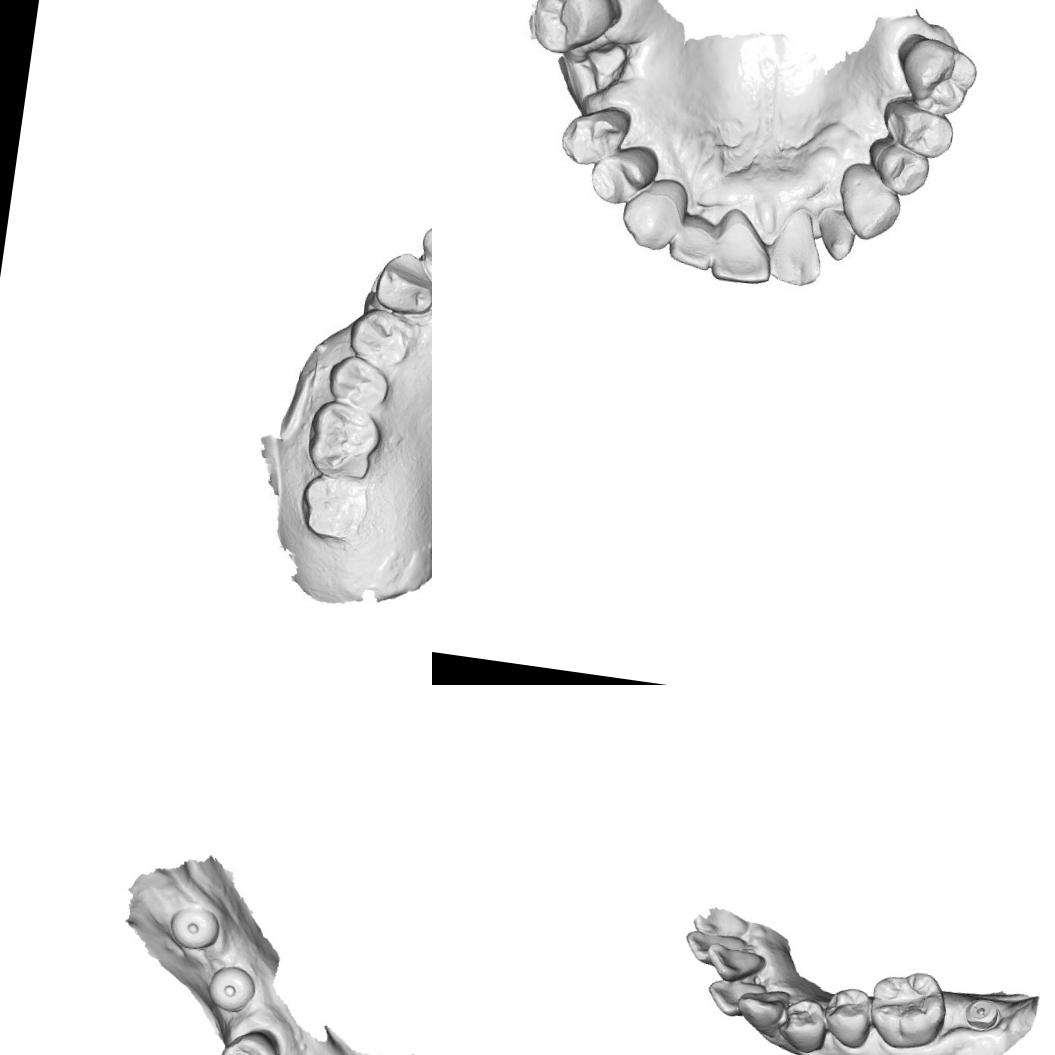canine: (834, 160, 907, 243), (616, 174, 690, 253), (372, 245, 432, 318), (732, 984, 792, 1040)
implant: (205, 960, 259, 1016), (166, 901, 222, 954), (962, 994, 1002, 1032)
incisor: (712, 215, 776, 287), (766, 214, 828, 285), (666, 212, 720, 269), (703, 975, 768, 1022), (702, 940, 767, 986), (681, 928, 747, 969), (814, 212, 860, 262), (691, 904, 752, 940)
molar: (892, 29, 986, 122), (864, 964, 953, 1055), (304, 395, 389, 484), (525, 0, 625, 64), (297, 472, 368, 544)
premolar: (585, 135, 666, 212), (550, 103, 630, 173), (880, 94, 956, 159), (326, 353, 395, 416), (346, 306, 416, 368), (869, 132, 934, 197), (820, 982, 875, 1050), (775, 994, 832, 1055), (214, 1024, 286, 1055)
